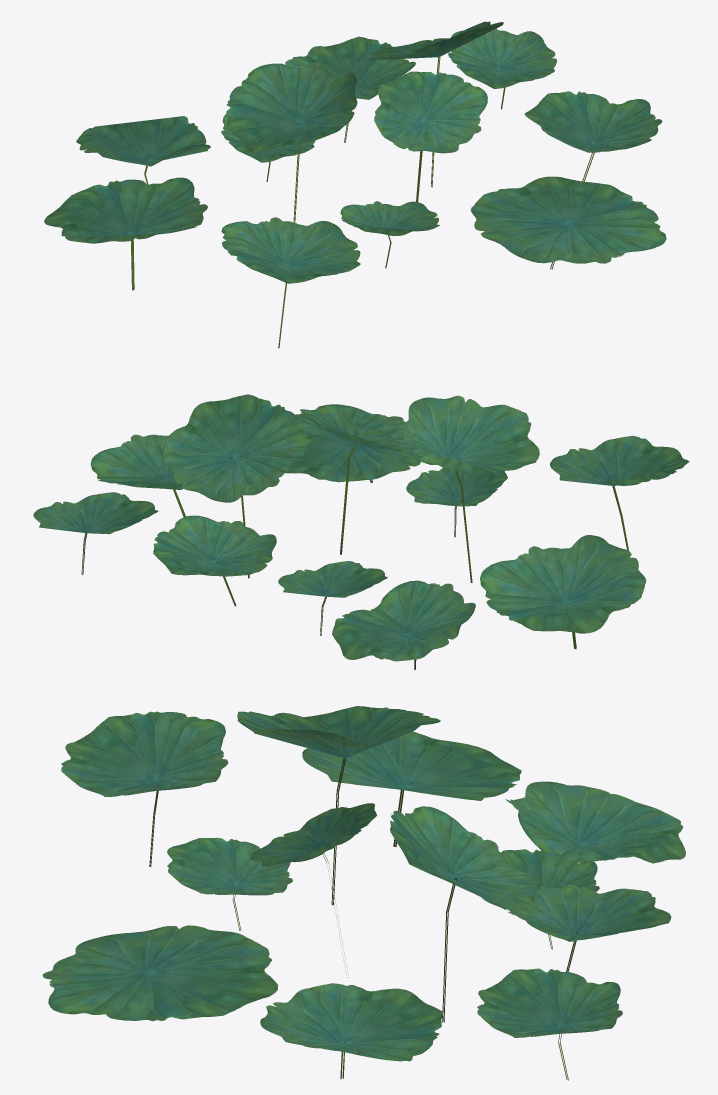
File: hehua_yunmeng_10.FBX
3 views of the same model, one above another, from view 1: azimuth 30°, elevation 25°; view 2: azimuth 150°, elevation 25°; view 3: azimuth 270°, elevation 25° (orthographic). The views are drawn at different scales.
Visible parts, largest first — view 1: Mesh_0107; view 2: Mesh_0107; view 3: Mesh_0107.
Part boxes in pixels (left/top/right/bottom): Mesh_0107: left=44, top=21, right=666, bottom=348; Mesh_0107: left=33, top=394, right=689, bottom=669; Mesh_0107: left=42, top=706, right=685, bottom=1080.
Size of the model in its own units: 522 by 167 by 445.
